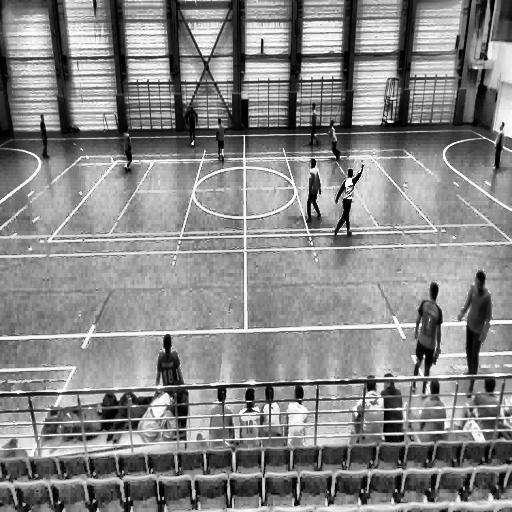ball: (190, 140, 196, 151)
player: (457, 268, 492, 389), (410, 282, 442, 394), (156, 333, 185, 398), (333, 169, 358, 238), (305, 156, 322, 224), (490, 119, 506, 174), (38, 112, 52, 161), (122, 124, 134, 175), (215, 115, 227, 164), (328, 119, 341, 164), (186, 102, 198, 149), (308, 102, 320, 145)
